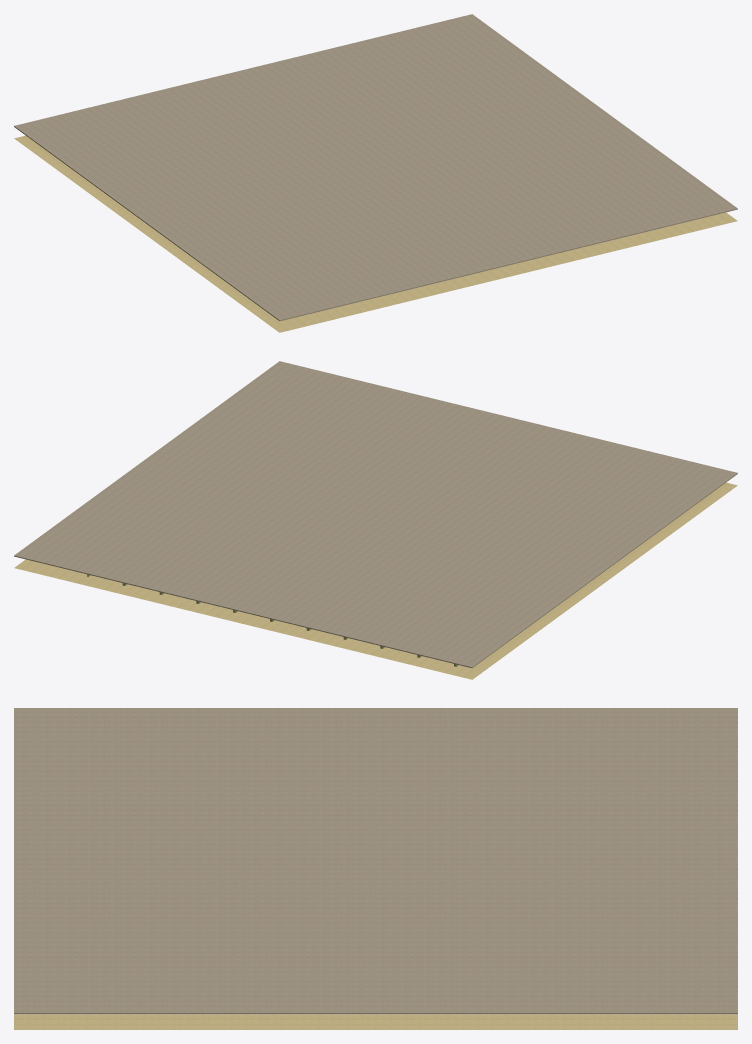
The model's file is liminal_space_the_backrooms.glb.
3 renders of one model, top to bottom at view 1: azimuth 30°, elevation 25°; view 2: azimuth 150°, elevation 25°; view 3: azimuth 270°, elevation 25°, orthographic. The views are drawn at different scales.
Visible parts, largest first — view 1: backroom_0; view 2: backroom_0; view 3: backroom_0.
Boxes of the visible parts, left/top/right/bottom form: backroom_0: left=14, top=14, right=737, bottom=332; backroom_0: left=14, top=361, right=737, bottom=679; backroom_0: left=14, top=708, right=737, bottom=1029.
Size of what is drawn, in the model's own units: 498 by 13 by 500.
9 materials, 9 textured.
